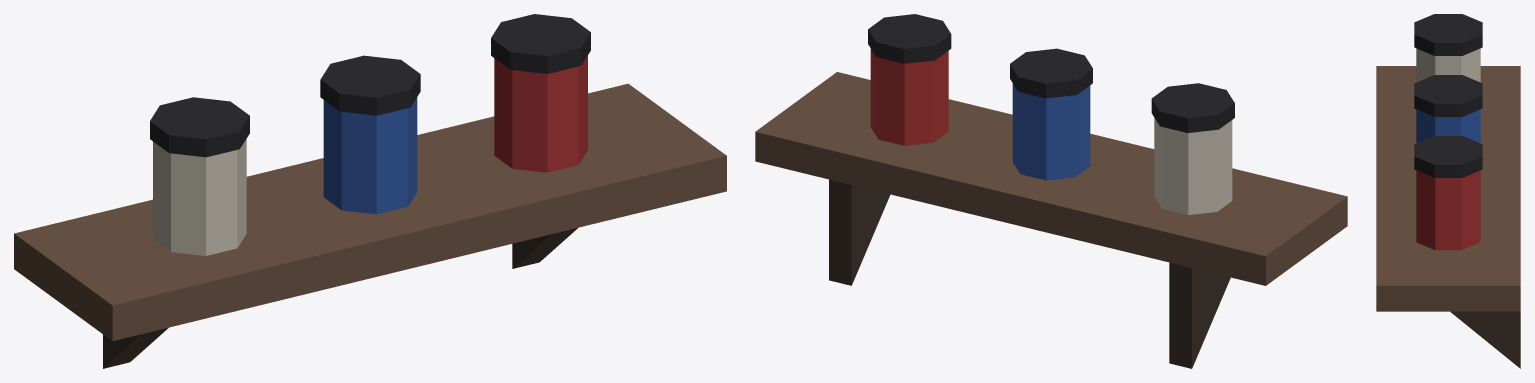
The model's file is shelf.glb.
3 views of the same model, side by side, from view 1: azimuth 30°, elevation 25°; view 2: azimuth 150°, elevation 25°; view 3: azimuth 270°, elevation 25° (orthographic). The views are drawn at different scales.
Parts seen in each view (by area): view 1: Shelf, Jars; view 2: Shelf, Jars; view 3: Shelf, Jars.
Boxes of the visible parts, x1=… form: Shelf: x1=14, y1=83, x2=726, y2=368; Jars: x1=150, y1=14, x2=590, y2=255; Shelf: x1=755, y1=72, x2=1347, y2=368; Jars: x1=868, y1=14, x2=1234, y2=214; Shelf: x1=1376, y1=66, x2=1520, y2=368; Jars: x1=1414, y1=14, x2=1482, y2=250.
Bounding box in the file's own units: 0.9 × 0.385 × 0.25.
